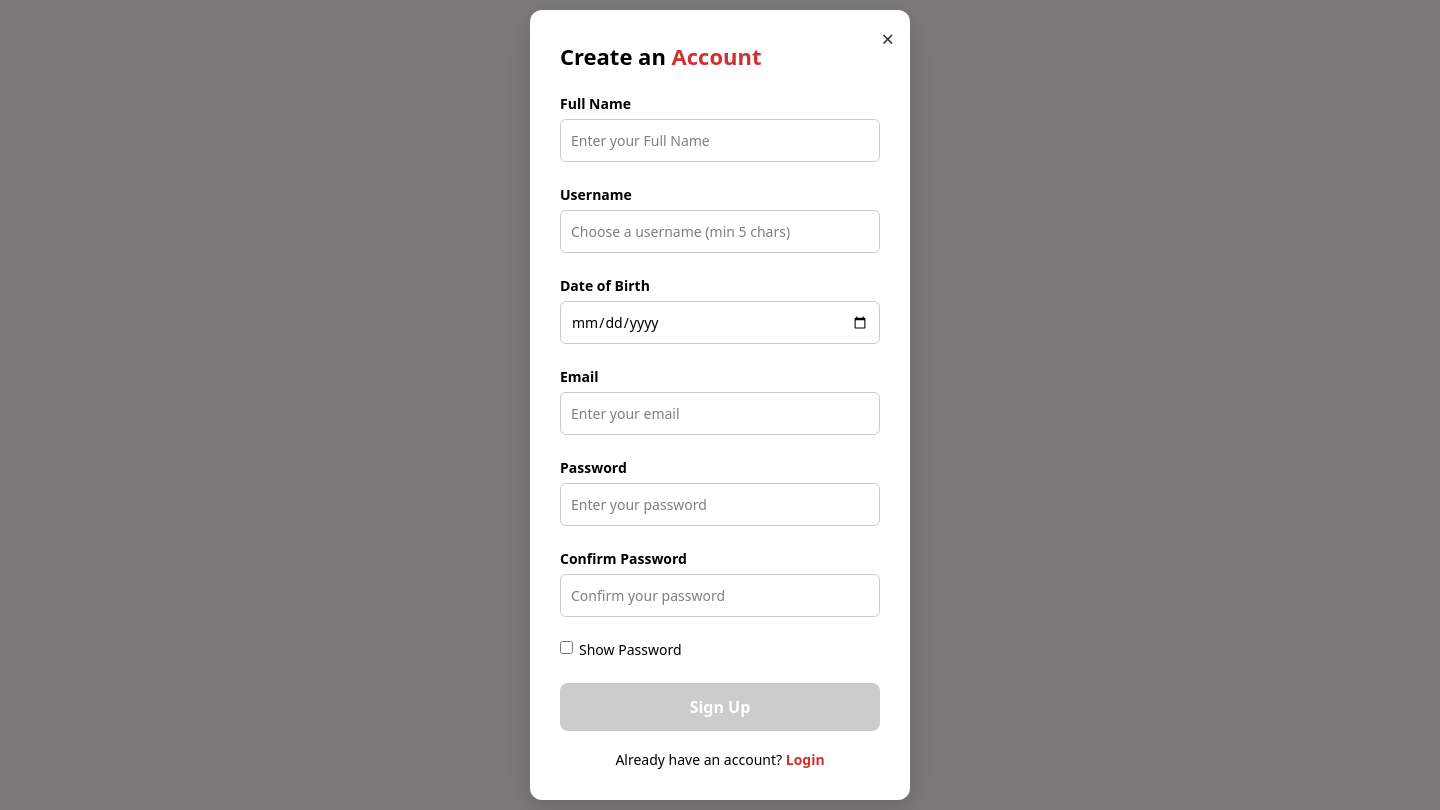
Test case: SignUp Component › validates Username Format (Invalid)
Step 1. Type ".badstart" into the field with placeholder "Choose a username (min 5 chars)" → {"x": 720, "y": 232}, box [560,210,880,253]
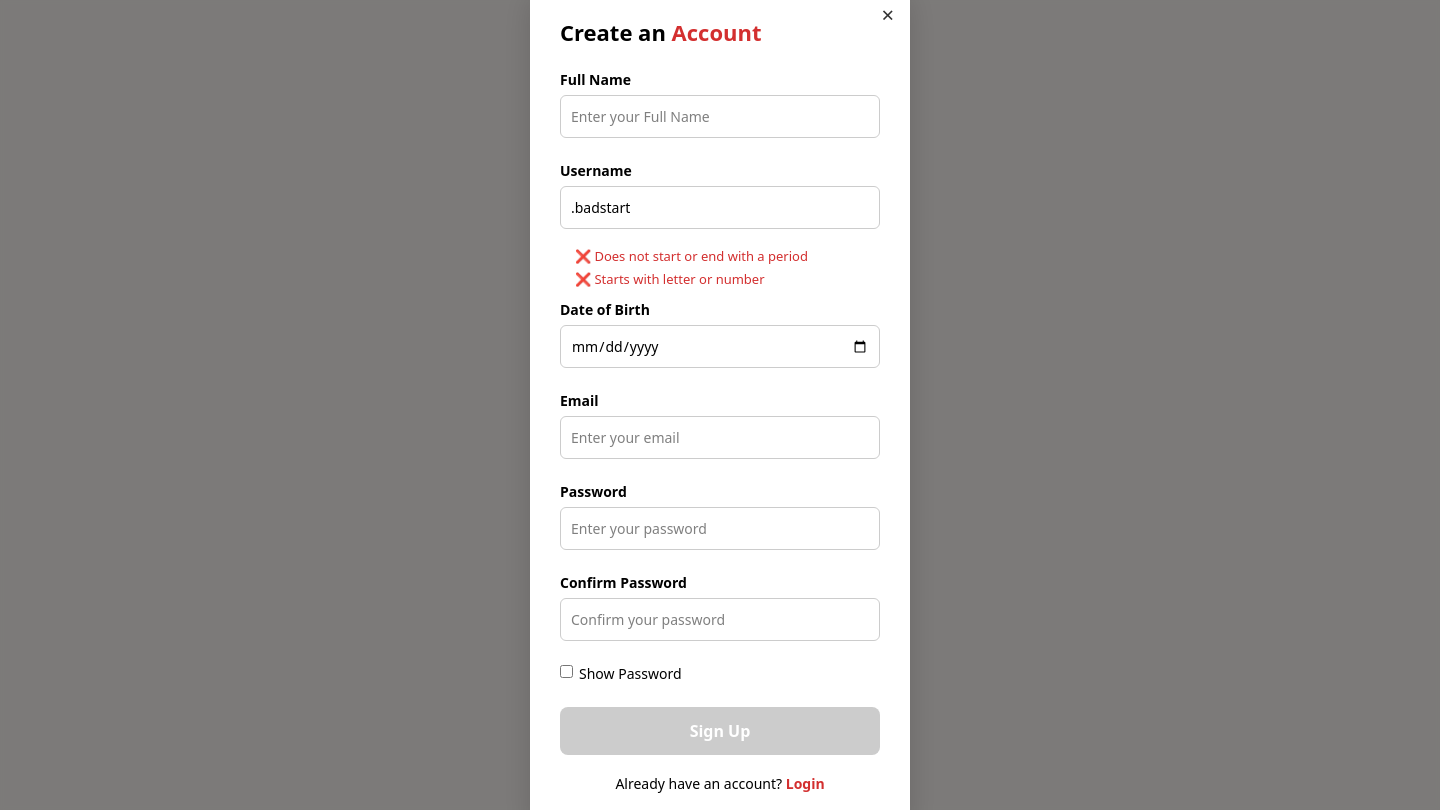
Expected: the button "Sign Up" is disabled, [560,707,880,755]
Expected: the list item "❌ Does not start or end with a period" is shown, [575,247,808,265]
